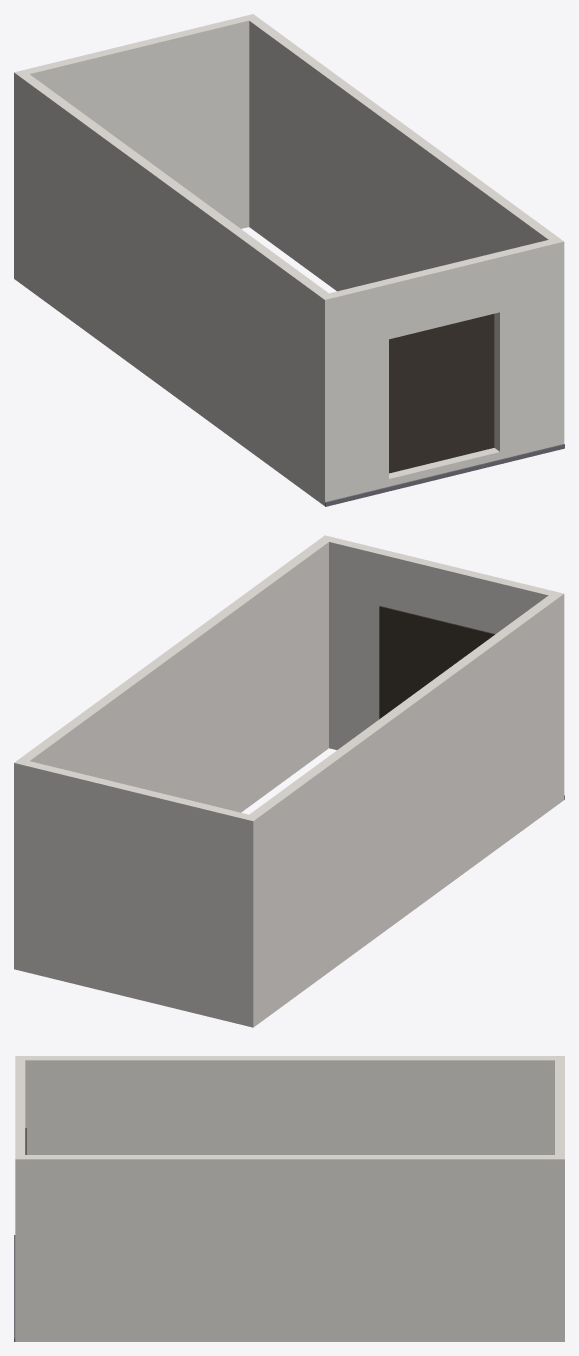
Rendered from SM_Floor_NarrowUpperBalcony_White_364_01.gltf.
3 renders of one model, top to bottom at view 1: azimuth 30°, elevation 25°; view 2: azimuth 150°, elevation 25°; view 3: azimuth 270°, elevation 25°, orthographic. The views are drawn at different scales.
Visible parts, largest first — view 1: SM_Floor_NarrowUpperBalcony_White_364_01; view 2: SM_Floor_NarrowUpperBalcony_White_364_01; view 3: SM_Floor_NarrowUpperBalcony_White_364_01.
Part boxes in pixels (x1,y1,x2,y2): SM_Floor_NarrowUpperBalcony_White_364_01: (14, 14, 564, 506); SM_Floor_NarrowUpperBalcony_White_364_01: (14, 535, 564, 1027); SM_Floor_NarrowUpperBalcony_White_364_01: (14, 1056, 564, 1341).
Bounding box in the file's own units: 3.64 × 3 × 8.21.
1 material, 1 textured.
